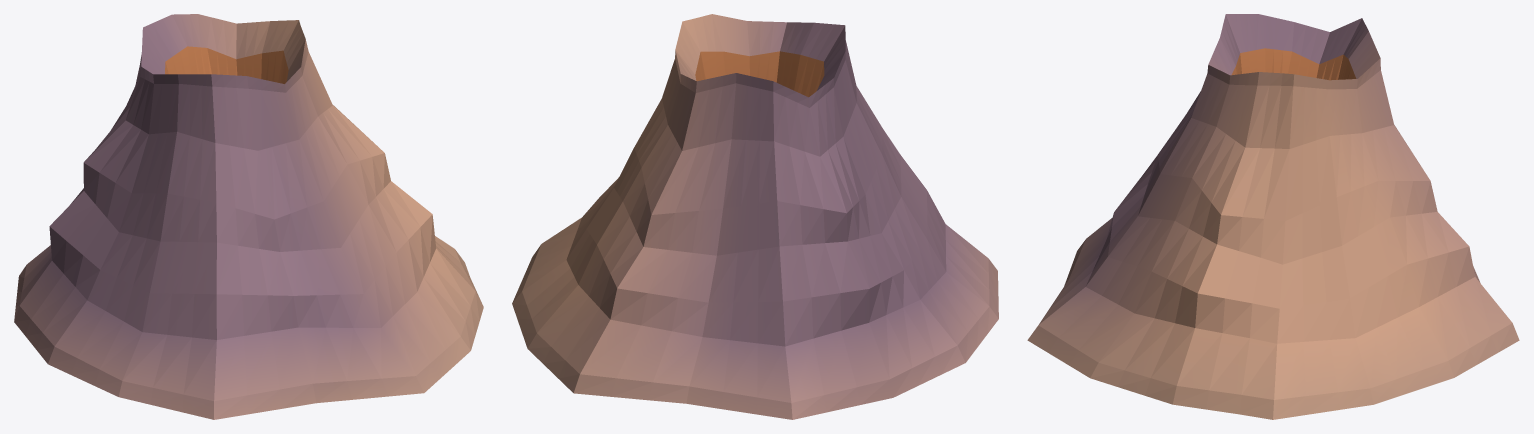
File: Volcano_2.glb
3 views of the same model, side by side, from view 1: azimuth 30°, elevation 25°; view 2: azimuth 150°, elevation 25°; view 3: azimuth 270°, elevation 25° (orthographic). The views are drawn at different scales.
Visible parts, largest first — view 1: b612__Volcano_2; view 2: b612__Volcano_2; view 3: b612__Volcano_2.
Boxes of the visible parts, x1,y1,x2,y2 form: b612__Volcano_2: (14, 14, 483, 419); b612__Volcano_2: (512, 14, 998, 419); b612__Volcano_2: (1027, 14, 1519, 419).
Bounding box in the file's own units: 1.44 × 0.9 × 1.48.
